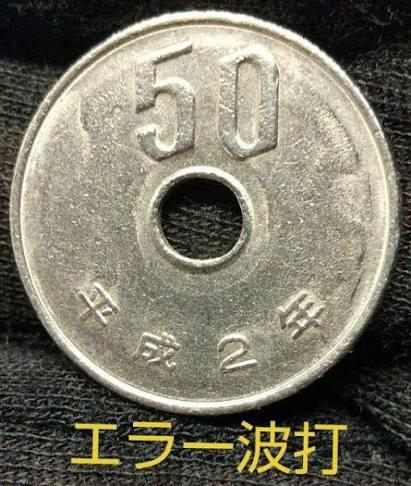year: (69, 279, 324, 393)
